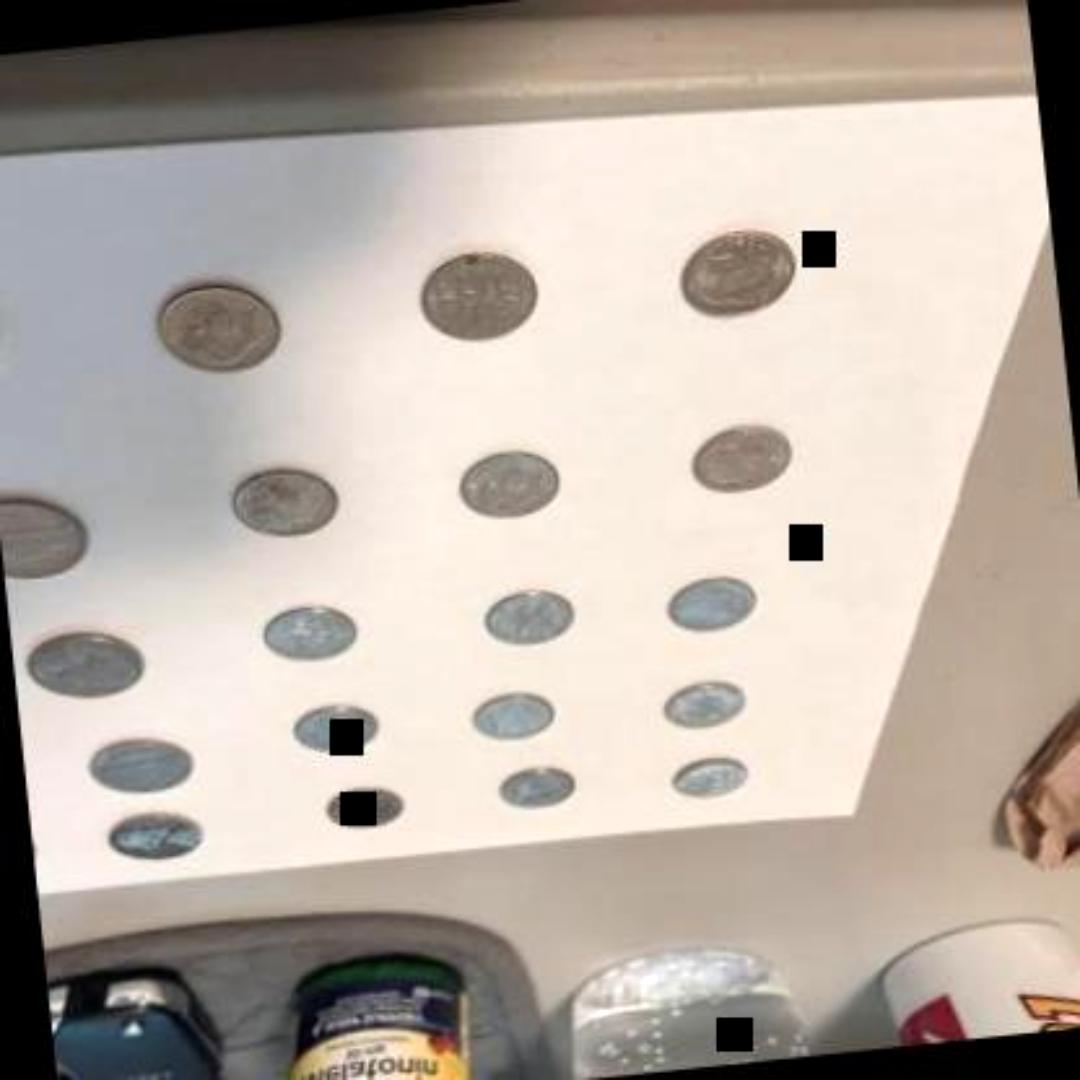Dime: (145, 271, 285, 382), (410, 240, 540, 346), (672, 216, 800, 322), (221, 458, 337, 546), (676, 416, 798, 499), (448, 442, 564, 524), (253, 594, 356, 666), (654, 572, 758, 639), (478, 581, 576, 648), (464, 684, 558, 744), (661, 747, 749, 811), (284, 698, 377, 758), (314, 776, 402, 834), (488, 758, 576, 816), (654, 675, 746, 729)
Nickel: (14, 624, 140, 708), (1, 472, 94, 584), (80, 724, 200, 794), (92, 804, 206, 866)
